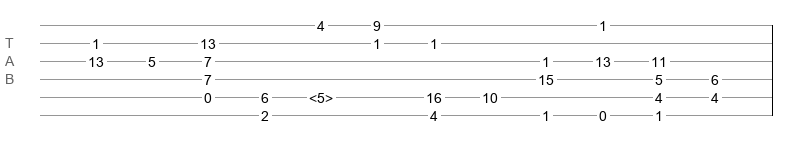0: (204, 90, 212, 100), (599, 108, 607, 118)
1: (92, 36, 100, 46), (373, 36, 381, 46), (430, 36, 438, 46), (542, 108, 550, 118), (542, 54, 550, 64), (599, 18, 607, 28), (655, 108, 663, 118)
10: (482, 90, 498, 100)
11: (651, 54, 667, 64)
13: (88, 54, 104, 64), (200, 36, 216, 46), (595, 54, 611, 64)
15: (538, 72, 554, 82)
16: (426, 90, 442, 100)
2: (261, 108, 269, 118)
4: (317, 18, 325, 28), (430, 108, 438, 118), (655, 90, 663, 100), (711, 90, 719, 100)
5: (148, 54, 156, 64), (655, 72, 663, 82)
6: (261, 90, 269, 100), (711, 72, 719, 82)
7: (204, 54, 212, 64), (204, 72, 212, 82)
9: (373, 18, 381, 28)
harmonic: (309, 90, 333, 100)
